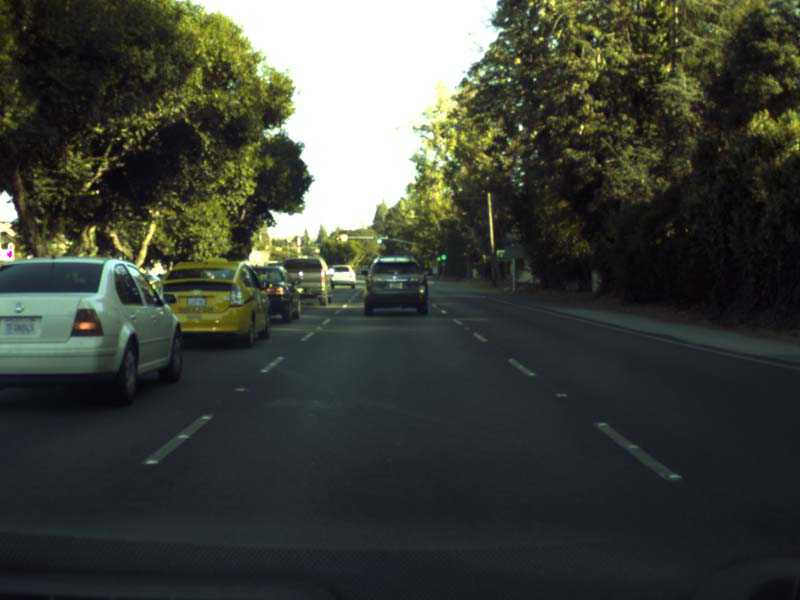Green: (440, 247, 446, 260), (436, 250, 440, 260), (377, 235, 381, 244)
Yellow: (334, 235, 337, 241)
